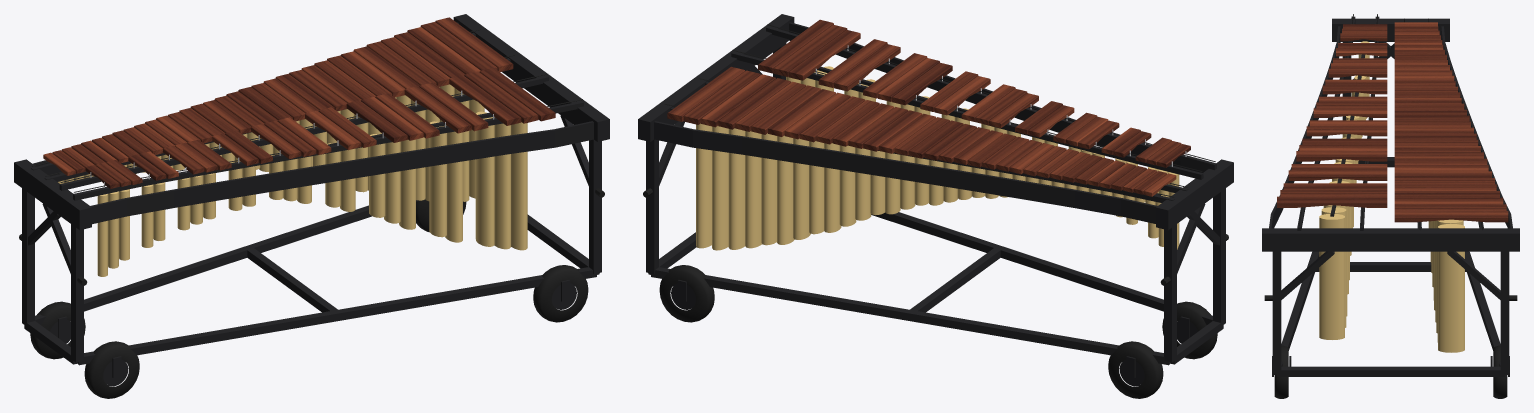
Rendered from marimba-4.6.glb.
The picture shows the model from 3 angles, left to right: view 1: azimuth 30°, elevation 25°; view 2: azimuth 150°, elevation 25°; view 3: azimuth 270°, elevation 25°; orthographic projection. The views are drawn at different scales.
Visible parts, largest first — view 1: bars-rosewood, frame, resonators-gold, artwork, rubber; view 2: frame, bars-rosewood, resonators-gold, rubber; view 3: bars-rosewood, frame, resonators-gold, rubber.
Part boxes in pixels (x1,y1,x2,y2): bars-rosewood: [43, 17, 555, 188]; frame: [14, 14, 609, 386]; resonators-gold: [58, 84, 527, 276]; artwork: [92, 122, 593, 224]; rubber: [19, 29, 604, 398]; frame: [638, 14, 1233, 386]; bars-rosewood: [667, 19, 1190, 196]; resonators-gold: [696, 66, 1179, 250]; rubber: [643, 24, 1228, 398]; bars-rosewood: [1277, 22, 1508, 222]; frame: [1262, 16, 1519, 376]; resonators-gold: [1319, 41, 1464, 352]; rubber: [1264, 14, 1517, 398].
Size of the model in its own units: 2.38 by 0.982 by 1.21.
6 materials, 1 textured.
